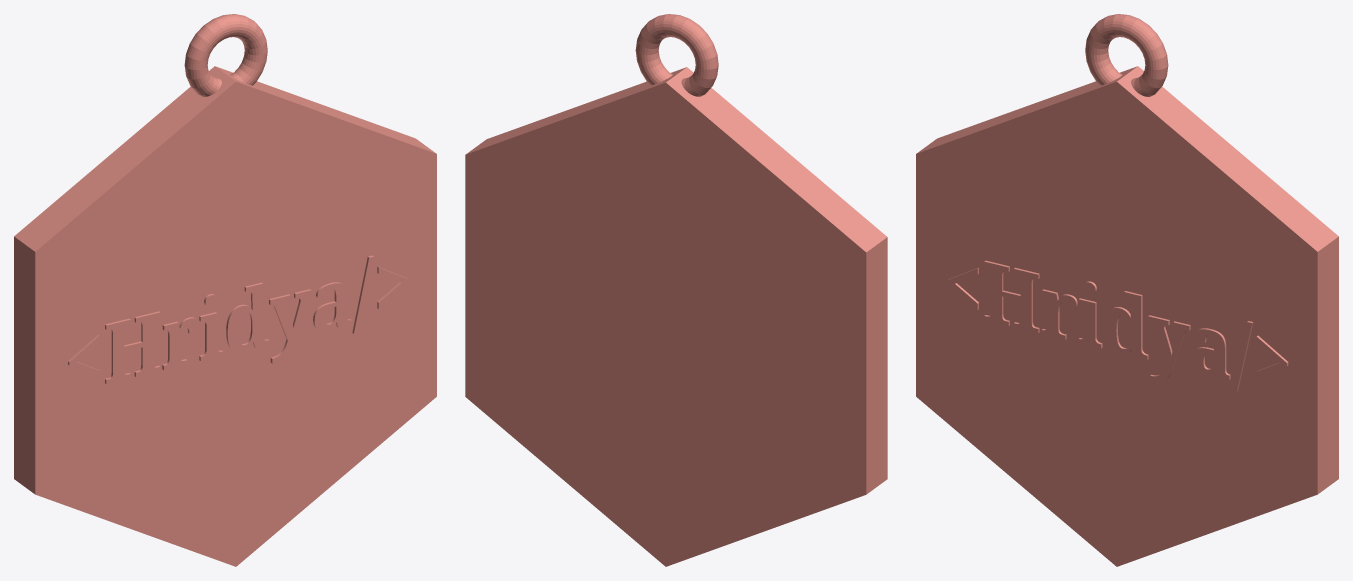
The model's file is tinker.obj.
The picture shows the model from 3 angles, left to right: view 1: azimuth 30°, elevation 25°; view 2: azimuth 150°, elevation 25°; view 3: azimuth 330°, elevation 25°; orthographic projection.
Visible parts, largest first — view 1: obj_0; view 2: obj_0; view 3: obj_0.
Boxes of the visible parts, x1,y1,x2,y2 form: obj_0: (14, 14, 436, 566); obj_0: (465, 14, 887, 566); obj_0: (916, 14, 1338, 566).
Bounding box in the file's own units: 26.56 × 34.37 × 2.6.
